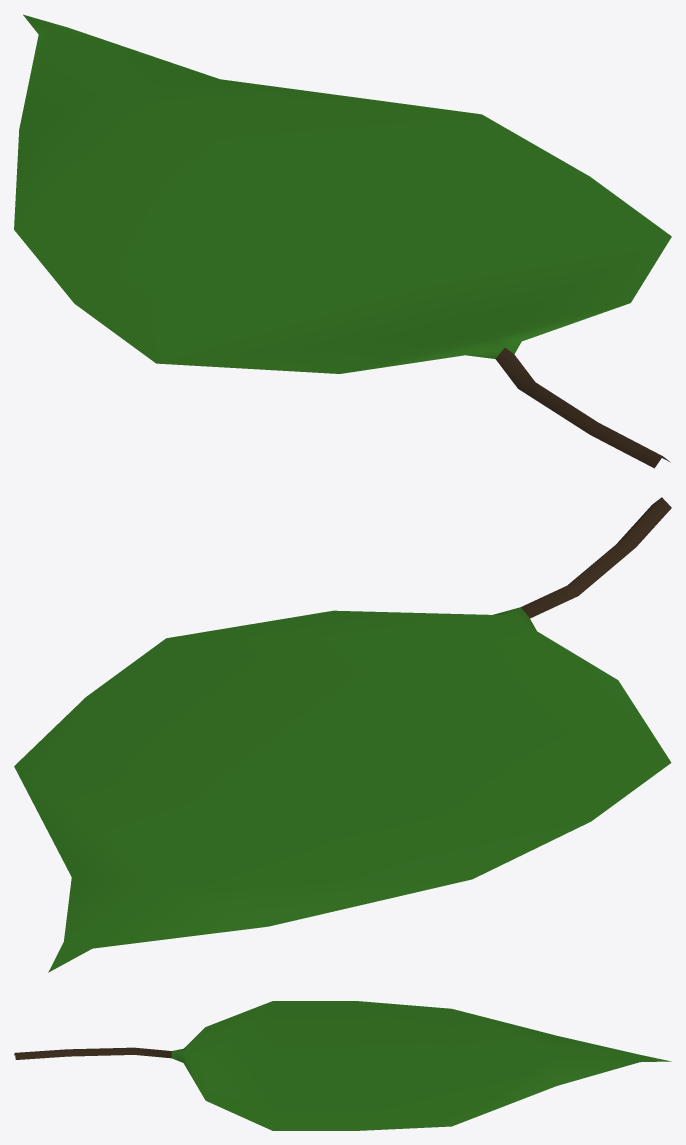
The model's file is leaf_cherry_s01.fbx.
The picture shows the model from 3 angles, top to bottom: view 1: azimuth 30°, elevation 25°; view 2: azimuth 150°, elevation 25°; view 3: azimuth 270°, elevation 25°; orthographic projection. The views are drawn at different scales.
Parts seen in each view (by area): view 1: leaf_cherry_s01; view 2: leaf_cherry_s01; view 3: leaf_cherry_s01.
Boxes of the visible parts, <box> form: leaf_cherry_s01: <box>14,14,671,468</box>; leaf_cherry_s01: <box>14,497,671,972</box>; leaf_cherry_s01: <box>14,1001,671,1130</box>.
Size of the model in its own units: 0.029 by 0.00141 by 0.0619.
